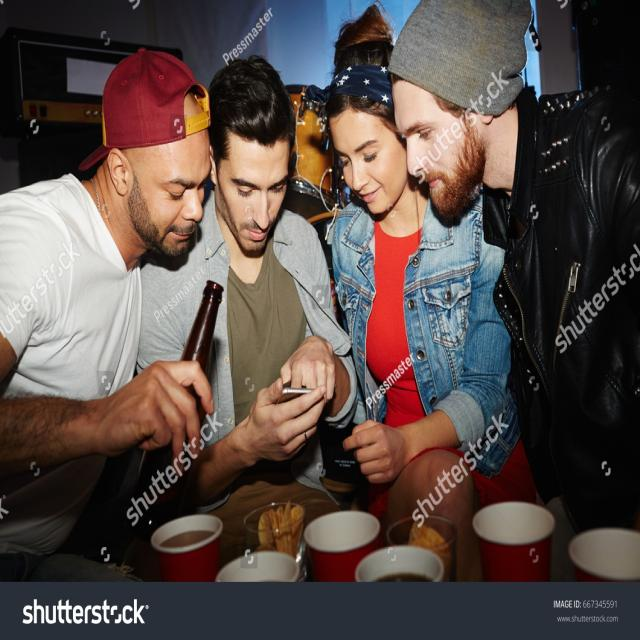body: (386, 1, 640, 541), (0, 45, 220, 583), (318, 70, 537, 584), (136, 51, 360, 522), (308, 4, 397, 72)
